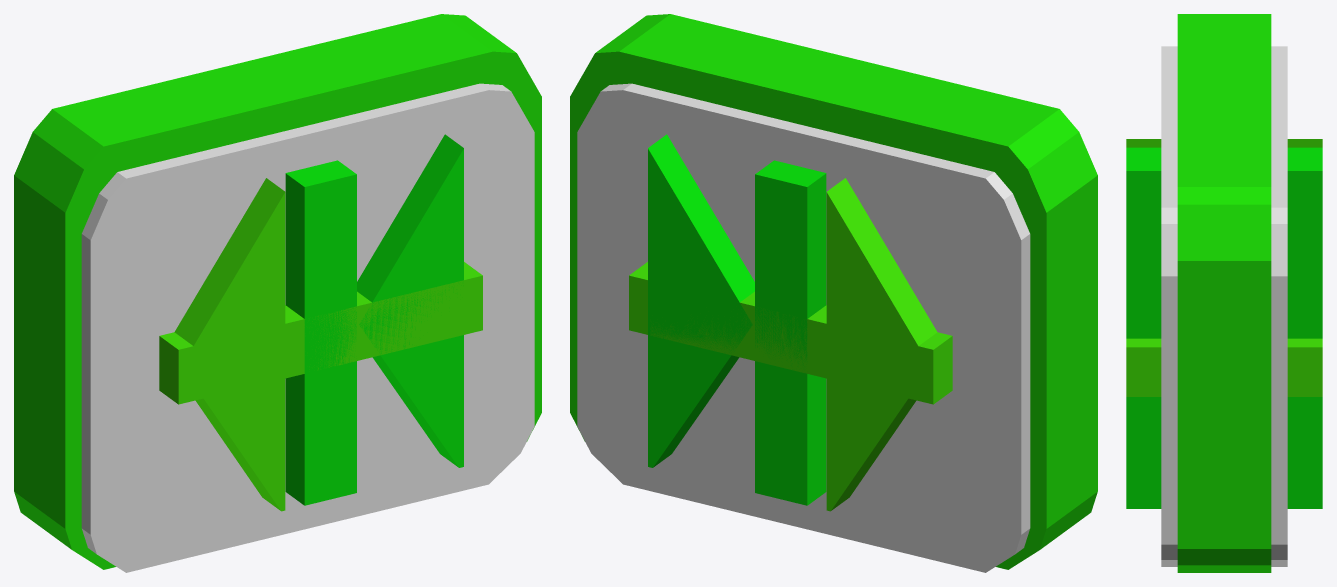
The model's file is Speed.fbx.
The picture shows the model from 3 angles, left to right: view 1: azimuth 30°, elevation 25°; view 2: azimuth 150°, elevation 25°; view 3: azimuth 270°, elevation 25°; orthographic projection. The views are drawn at different scales.
Parts seen in each view (by area): view 1: Cube.004, Cube, Cube.007, Cube.002, Cube.006, Cube.001, Cube.005, Cube.003; view 2: Cube.004, Cube, Cube.007, Cube.005, Cube.002, Cube.006, Cube.001, Cube.003; view 3: Cube.001, Cube.005, Cube.007, Cube, Cube.002, Cube.003, Cube.004, Cube.006.
Boxes of the visible parts, <box> form: Cube.004: <box>81,84,532,572</box>; Cube: <box>14,15,539,569</box>; Cube.007: <box>92,83,534,553</box>; Cube.002: <box>285,160,356,505</box>; Cube.006: <box>174,178,285,511</box>; Cube.001: <box>57,14,541,552</box>; Cube.005: <box>357,134,463,467</box>; Cube.003: <box>159,262,482,404</box>; Cube.004: <box>579,90,1030,572</box>; Cube: <box>572,14,1097,569</box>; Cube.007: <box>577,83,1019,557</box>; Cube.005: <box>648,134,754,467</box>; Cube.002: <box>755,160,826,505</box>; Cube.006: <box>826,178,937,511</box>; Cube.001: <box>570,14,1054,569</box>; Cube.003: <box>629,262,952,404</box>; Cube.001: <box>1177,15,1271,572</box>; Cube.005: <box>1126,218,1322,508</box>; Cube.007: <box>1161,47,1287,566</box>; Cube: <box>1177,14,1271,186</box>; Cube.002: <box>1126,147,1322,218</box>; Cube.003: <box>1126,338,1322,396</box>; Cube.004: <box>1161,46,1287,206</box>; Cube.006: <box>1126,139,1322,147</box>.
Size of the model in its own units: 235 by 200 by 92.06.
